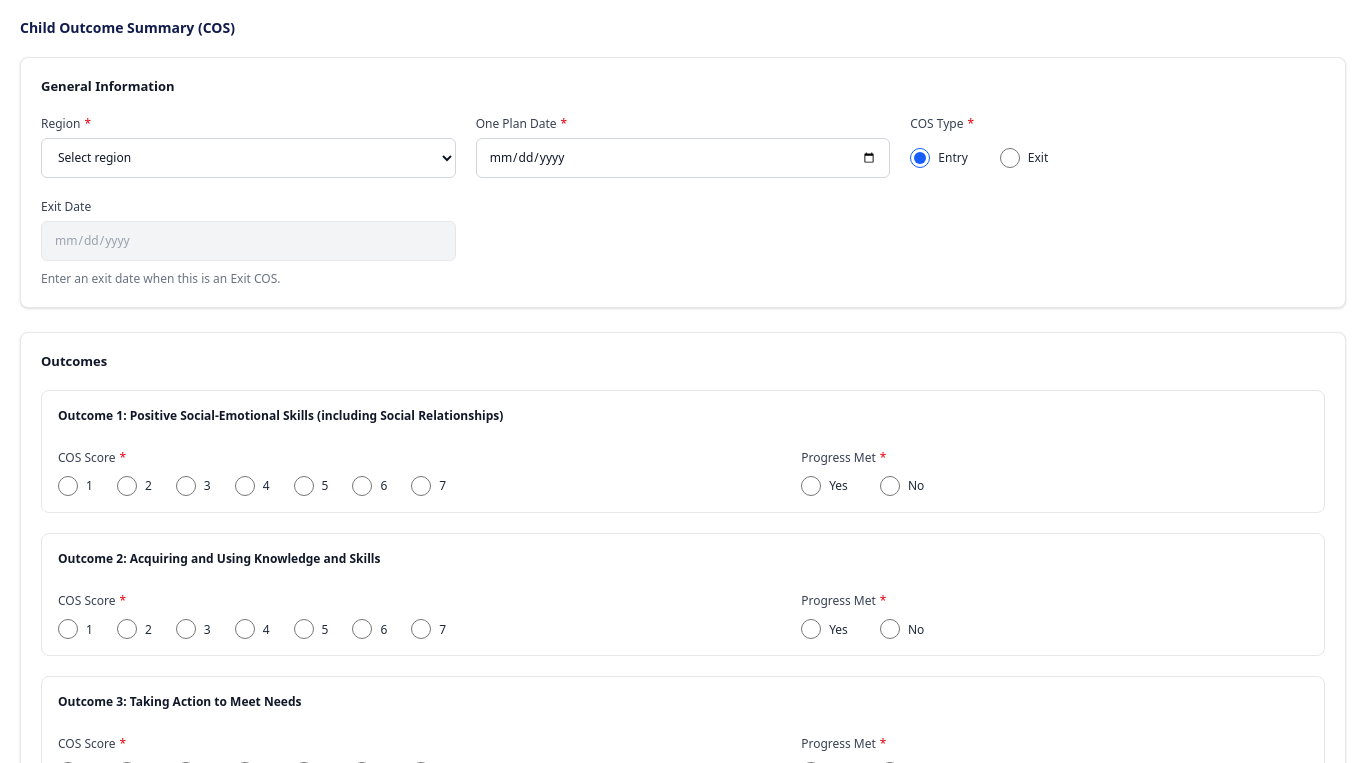
it: clears and disables Exit Date when switching back to Entry
This screenshot has width=1366, height=763.
Step 1. Click the radio button labelled "Exit" → (1010, 158), box [1000,148,1020,168]
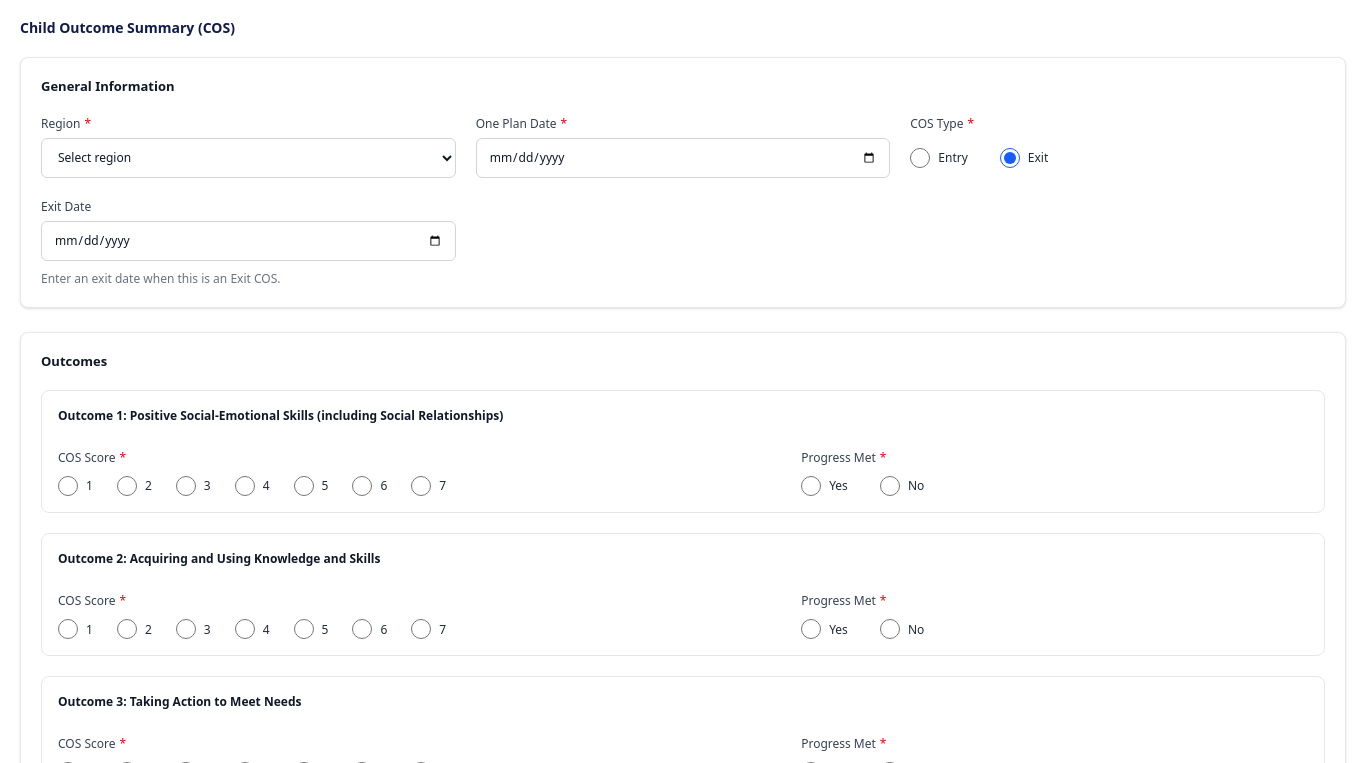
Now the radio button labelled "Exit" is checked, box [1000,148,1020,168]
Now the 2nd date field is enabled
Step 2. Type "2024-06-30" into the 2nd date field → (248, 241), box [41,221,456,261]
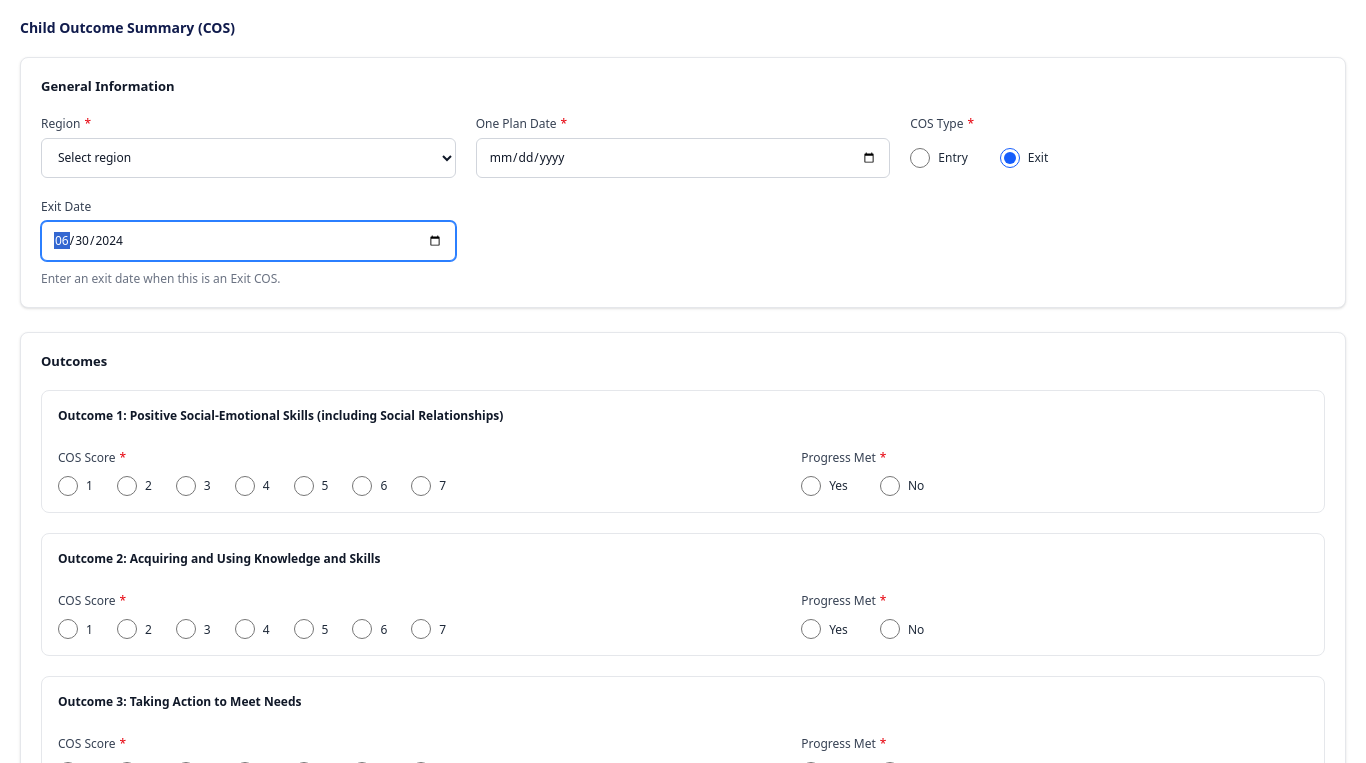
Step 3. Click the radio button labelled "Entry" → (920, 158), box [910,148,930,168]
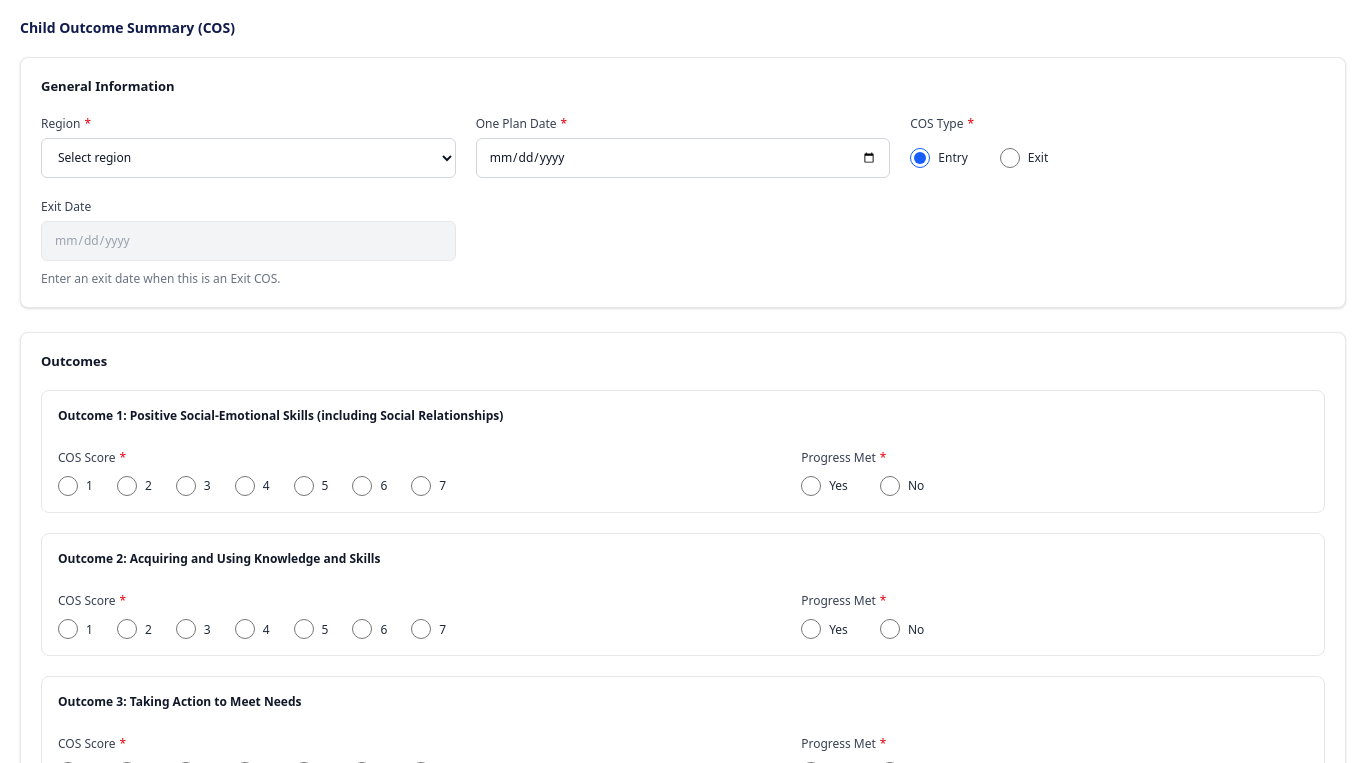
Now the radio button labelled "Entry" is checked, box [910,148,930,168]
Now the 2nd date field is empty, box [41,221,456,261]
Now the 2nd date field is disabled, box [41,221,456,261]
